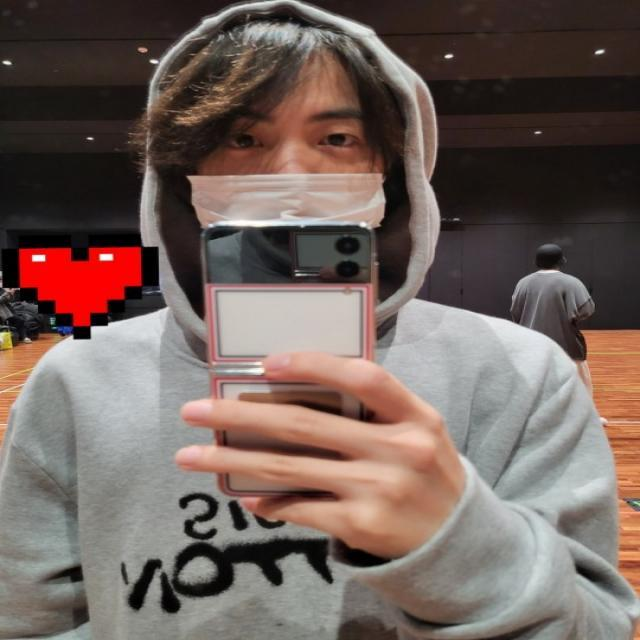phone: (200, 220, 376, 497)
